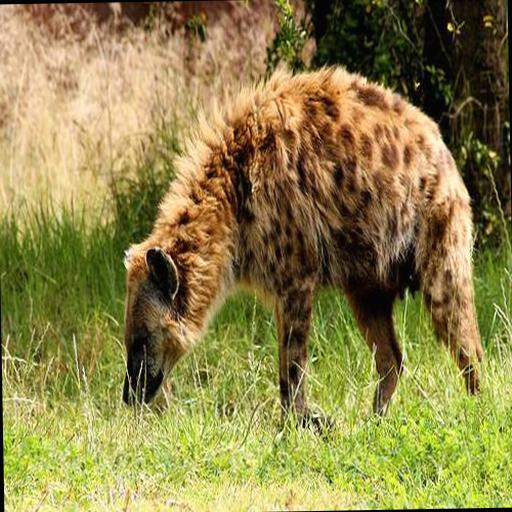hyenas: (88, 54, 483, 512)
